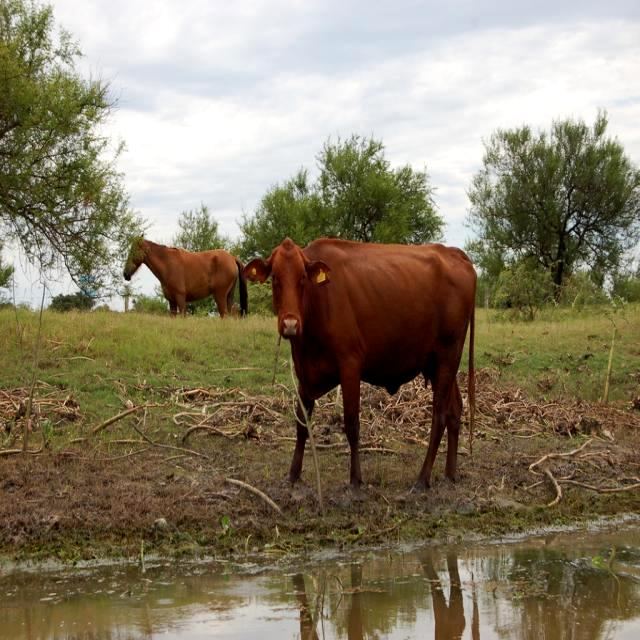COW: (244, 239, 476, 488)
